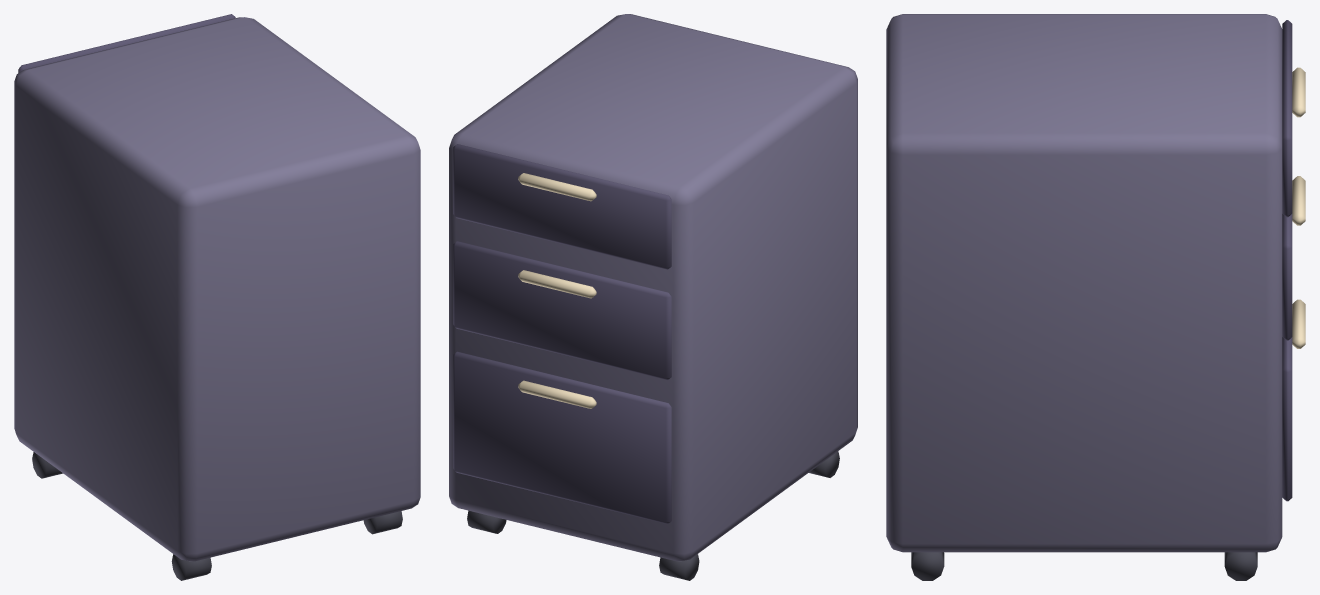
The model's file is drawer_pedestal.glb.
3 views of the same model, side by side, from view 1: azimuth 30°, elevation 25°; view 2: azimuth 150°, elevation 25°; view 3: azimuth 270°, elevation 25° (orthographic). The views are drawn at different scales.
Visible parts, largest first — view 1: drawer_pedestal__SlateLav, drawer_pedestal__DarkGrey, drawer_pedestal__SlateLavDark; view 2: drawer_pedestal__SlateLav, drawer_pedestal__SlateLavDark, drawer_pedestal__Cream, drawer_pedestal__DarkGrey; view 3: drawer_pedestal__SlateLav, drawer_pedestal__SlateLavDark, drawer_pedestal__Cream, drawer_pedestal__DarkGrey.
Part boxes in pixels (<box>): drawer_pedestal__SlateLav: <box>14,17,420,561</box>; drawer_pedestal__DarkGrey: <box>32,452,402,580</box>; drawer_pedestal__SlateLavDark: <box>18,14,235,72</box>; drawer_pedestal__SlateLav: <box>449,14,857,561</box>; drawer_pedestal__SlateLavDark: <box>453,144,671,524</box>; drawer_pedestal__Cream: <box>518,173,596,408</box>; drawer_pedestal__DarkGrey: <box>467,451,839,580</box>; drawer_pedestal__SlateLav: <box>886,14,1282,552</box>; drawer_pedestal__SlateLavDark: <box>1282,20,1292,501</box>; drawer_pedestal__Cream: <box>1292,67,1305,348</box>; drawer_pedestal__DarkGrey: <box>911,552,1257,580</box>.
Size of the model in its own units: 0.38 by 0.599 by 0.508.
